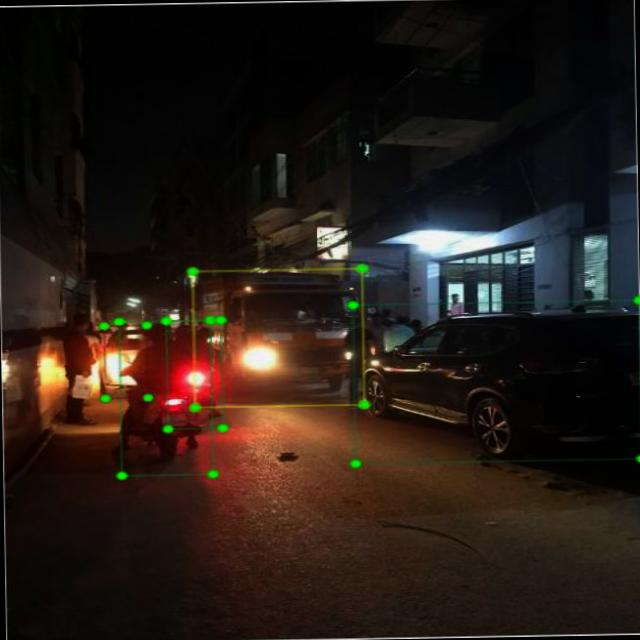car: (350, 298, 638, 462), (102, 324, 144, 397)
motorcycle: (116, 319, 210, 475), (163, 319, 220, 428)
truck: (190, 268, 360, 407)
